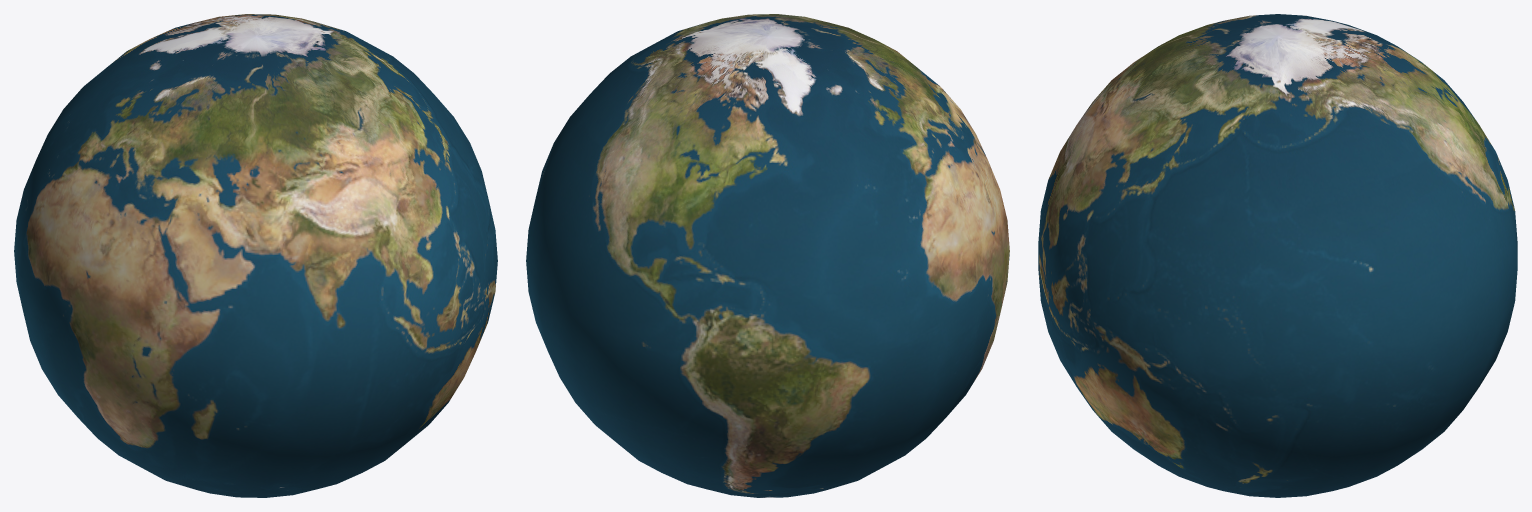
Rendered from earth.fbx.
3 views of the same model, side by side, from view 1: azimuth 30°, elevation 25°; view 2: azimuth 150°, elevation 25°; view 3: azimuth 270°, elevation 25° (orthographic).
Visible parts, largest first — view 1: Sphere_Node; view 2: Sphere_Node; view 3: Sphere_Node.
Part boxes in pixels (x1,y1,x2,y2): Sphere_Node: [14, 14, 497, 497]; Sphere_Node: [526, 14, 1009, 497]; Sphere_Node: [1038, 14, 1517, 497].
Bounding box in the file's own units: 2 × 2 × 1.98.
Materials: 1 (1 with a texture image).
